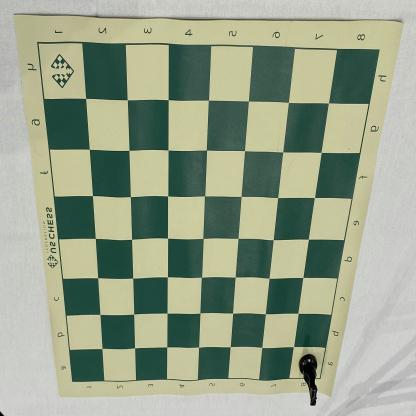black-knight: (298, 353, 318, 406)
